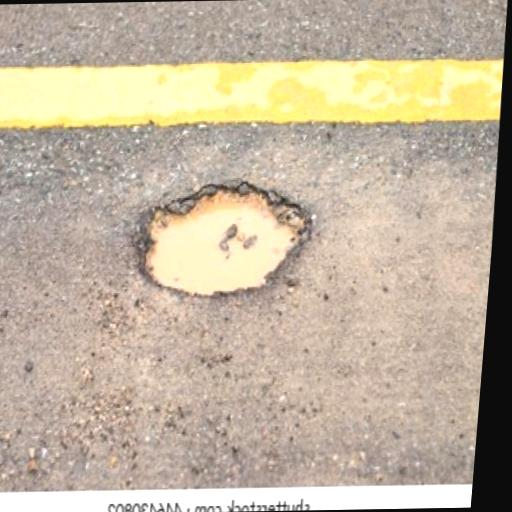pothole: (143, 184, 312, 298)
